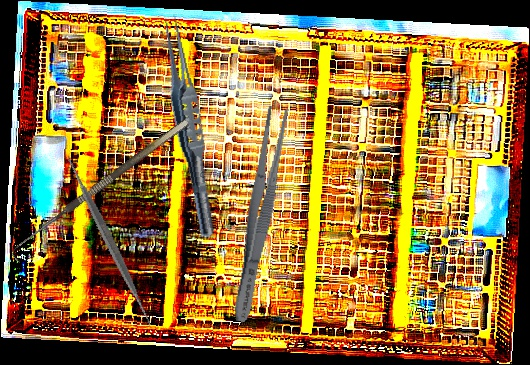Dressing Forceps: (226, 105, 293, 324)
Hook Surgical: (6, 118, 197, 264)
Spatula Surgical: (14, 147, 204, 336)
Tissue Forceps: (153, 10, 225, 241)
